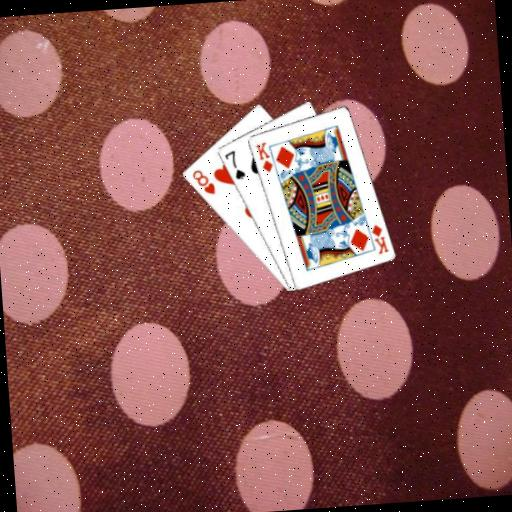7S: (221, 147, 247, 183)
8H: (188, 166, 217, 198)
KD: (252, 139, 274, 175), (368, 221, 390, 256)
